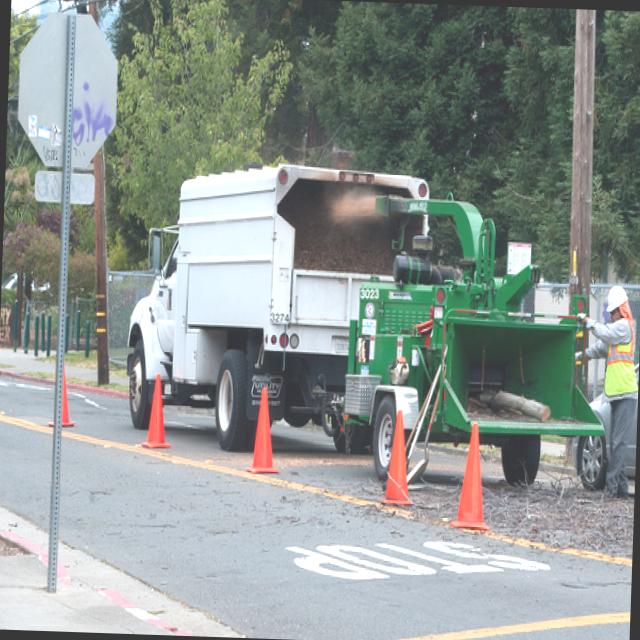Vehicle: (120, 155, 430, 456), (570, 337, 640, 489)
